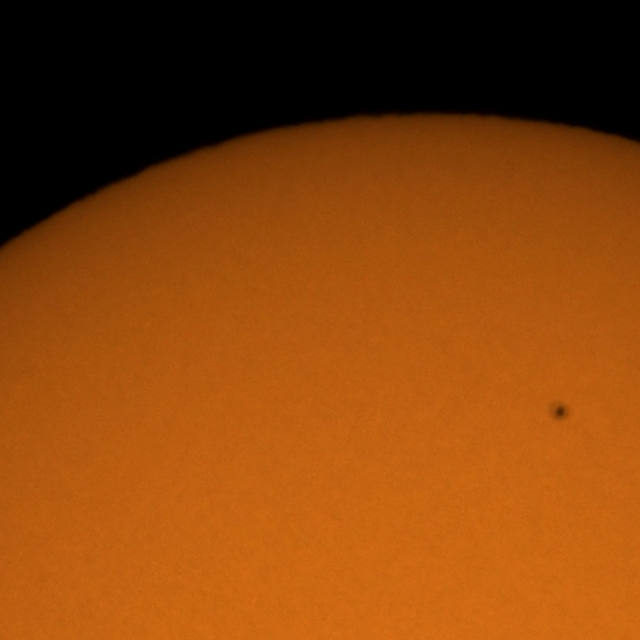sunspot: (550, 400, 570, 422)
